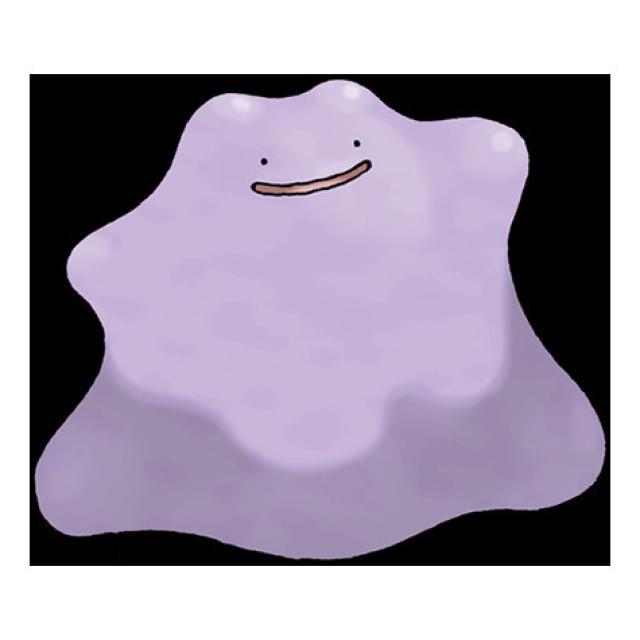Ditto: (31, 78, 607, 561)
